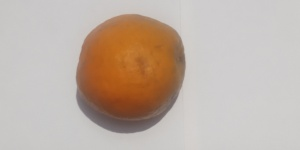BAD: (74, 12, 188, 123)
